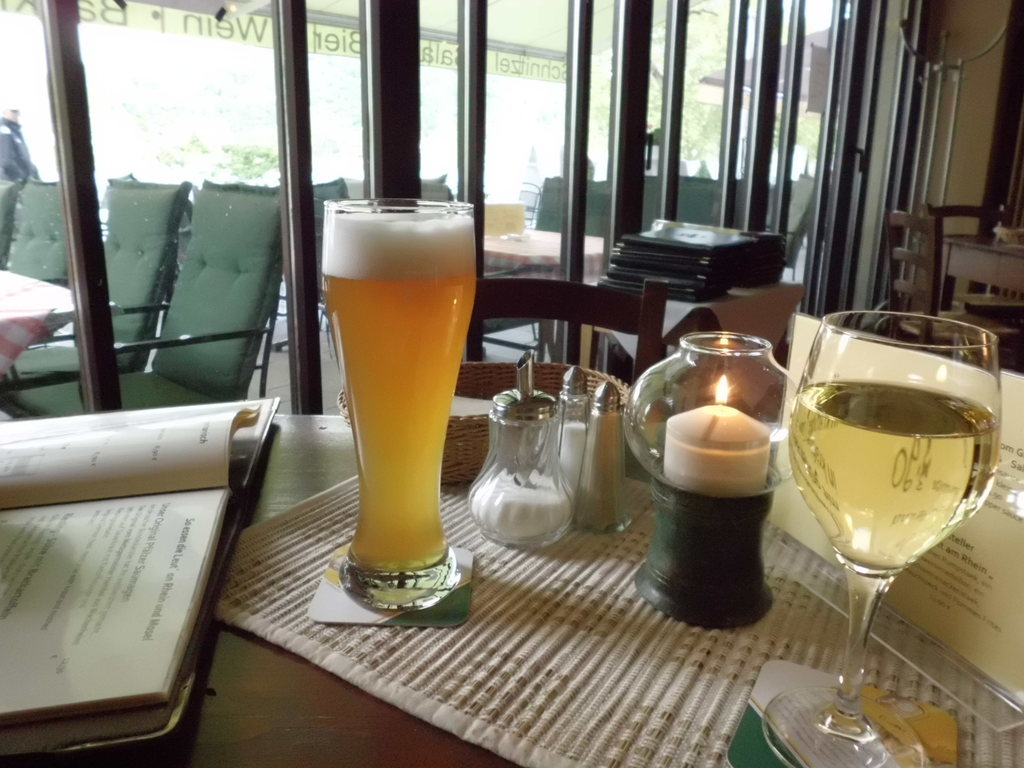Beer: (318, 209, 478, 570)
